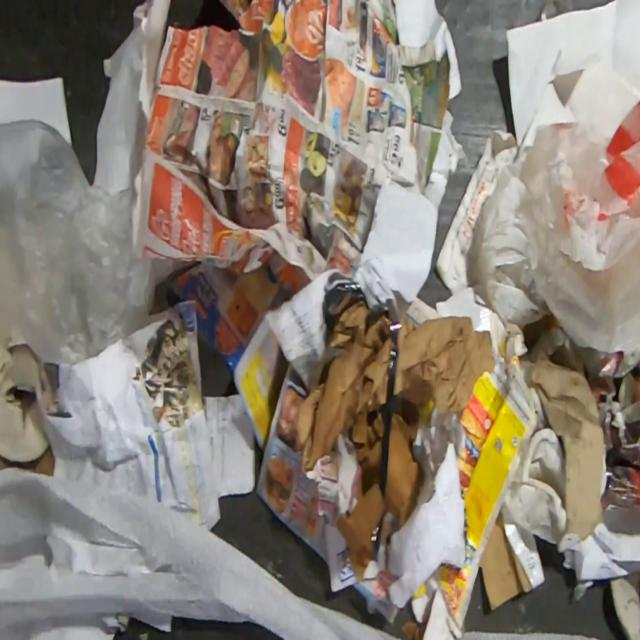cardboard: (410, 322, 548, 640), (528, 347, 606, 541), (479, 502, 547, 613)
soft_plastic: (464, 97, 640, 379), (0, 116, 154, 367)
